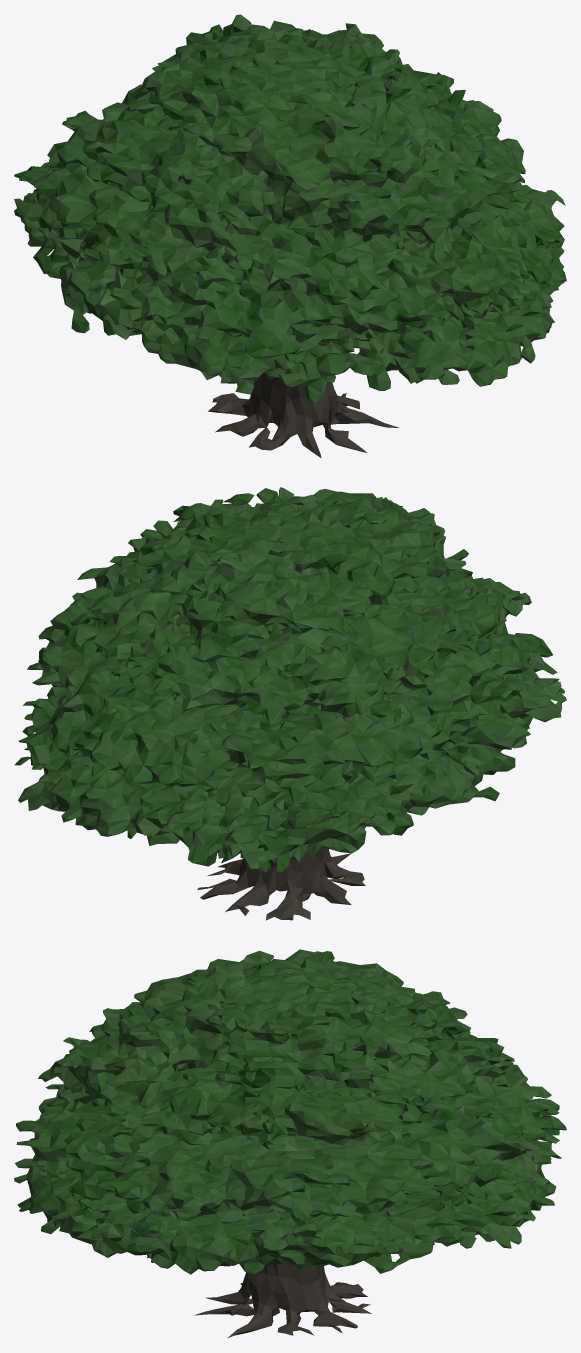
The model's file is ebony_tree.glb.
The picture shows the model from 3 angles, top to bottom: view 1: azimuth 30°, elevation 25°; view 2: azimuth 150°, elevation 25°; view 3: azimuth 270°, elevation 25°; orthographic projection. The views are drawn at different scales.
Parts seen in each view (by area): view 1: world; view 2: world; view 3: world.
Boxes of the visible parts, bbox=[...] form: world: bbox=[14, 14, 566, 457]; world: bbox=[14, 487, 566, 920]; world: bbox=[14, 949, 566, 1338].
Size of the model in its own units: 6.47 by 5 by 7.59.
